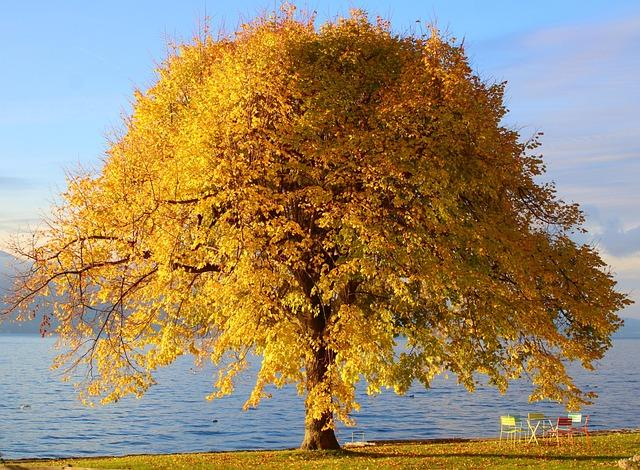Non_Gorille: (38, 11, 605, 456)
